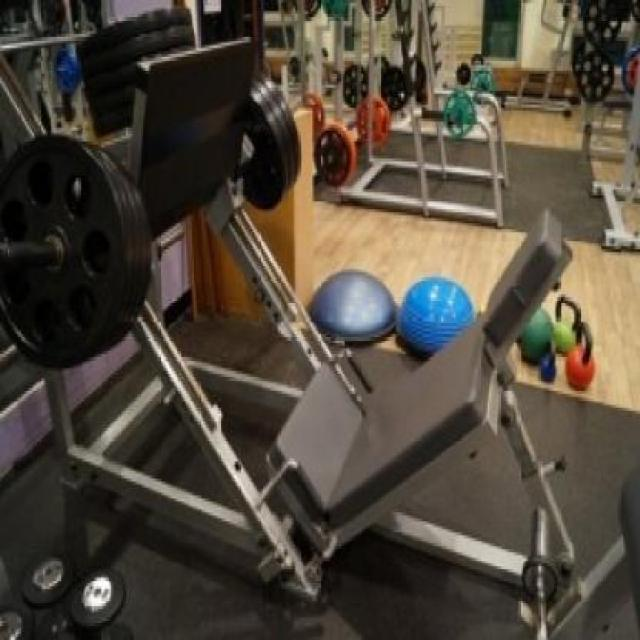leg press: (6, 14, 640, 640)
